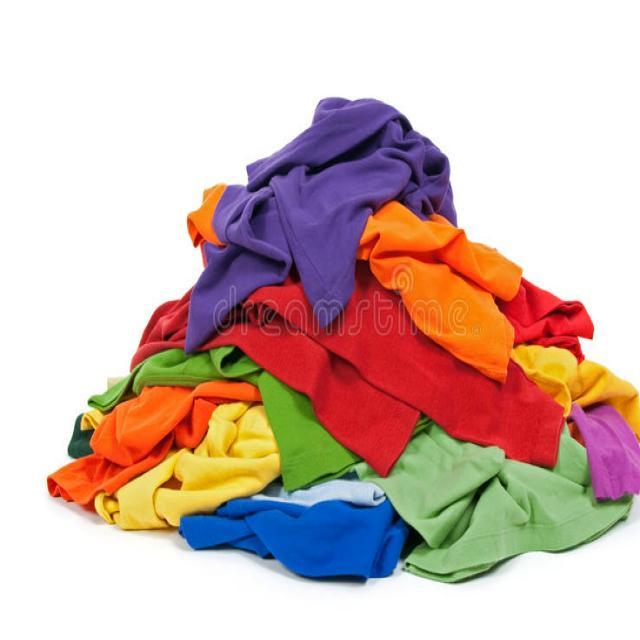clothes: (156, 166, 528, 584)
